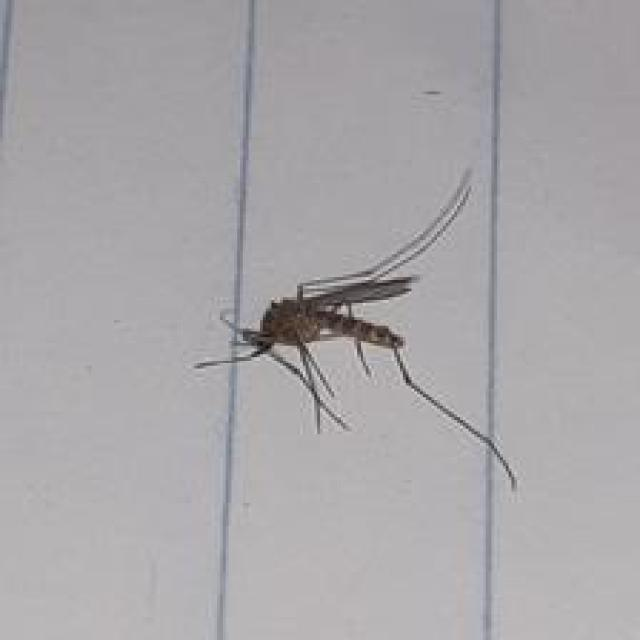Culex: (193, 166, 518, 491)
